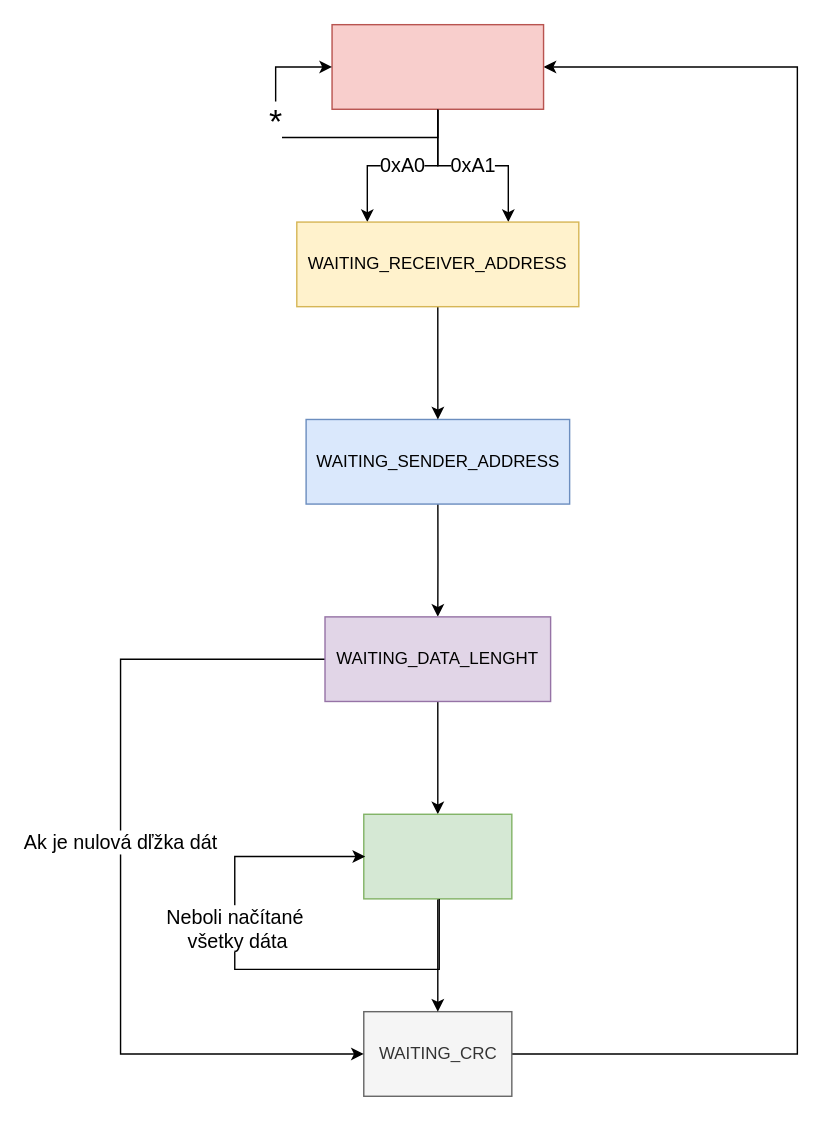
Image size: 833x1121. Some labels were removed from this diagram. The shapes that lost their labels are listed below. From the top down, each one's centre as x and y in pixels, then its label:
At (437,66): "WAITING_START_BYTE".
At (437,856): "WAITING_DATA".
